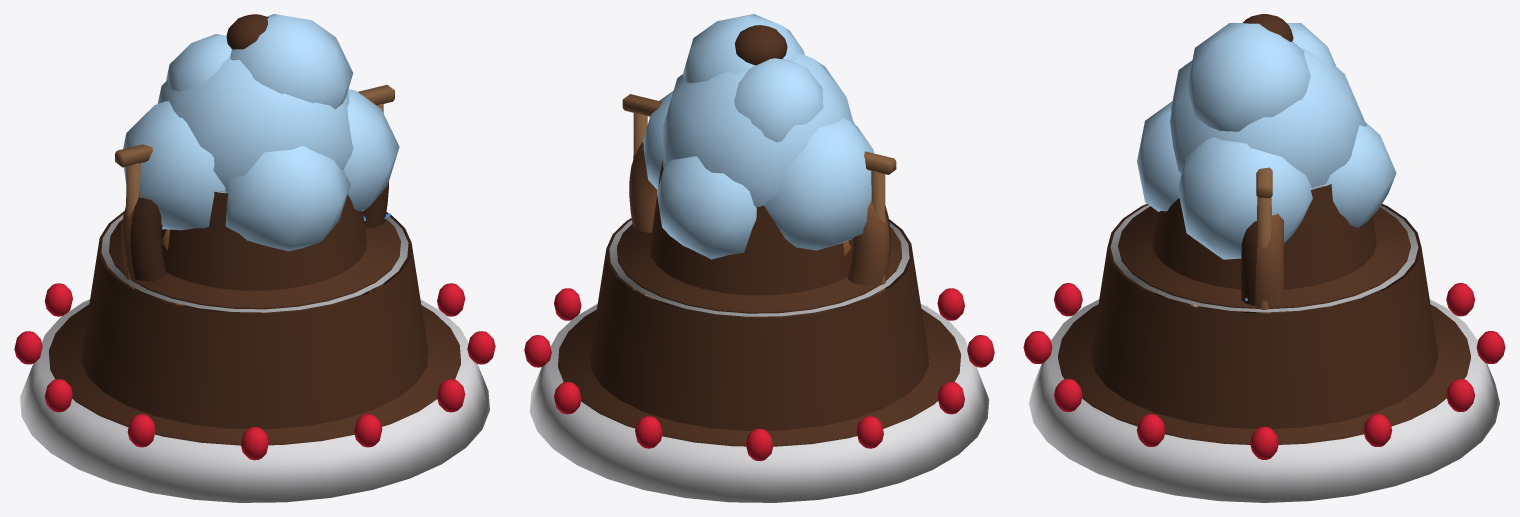
The model's file is choco.glb.
3 views of the same model, side by side, from view 1: azimuth 30°, elevation 25°; view 2: azimuth 150°, elevation 25°; view 3: azimuth 270°, elevation 25° (orthographic). The views are drawn at different scales.
Visible parts, largest first — view 1: CH_Fountain, CH_TreeBlue, CH_Brezn, CH_Heart; view 2: CH_Fountain, CH_TreeBlue, CH_Brezn, CH_Heart; view 3: CH_Fountain, CH_TreeBlue, CH_Brezn, CH_Heart.
Part boxes in pixels (<box>): CH_Fountain: <box>14,14,495,502</box>; CH_TreeBlue: <box>123,14,399,251</box>; CH_Brezn: <box>121,182,390,304</box>; CH_Heart: <box>115,85,394,292</box>; CH_Fountain: <box>524,25,994,502</box>; CH_TreeBlue: <box>643,14,874,259</box>; CH_Brezn: <box>629,142,890,308</box>; CH_Heart: <box>622,94,896,297</box>; CH_Fountain: <box>1023,14,1505,502</box>; CH_TreeBlue: <box>1137,23,1396,259</box>; CH_Brezn: <box>1241,214,1283,313</box>; CH_Heart: <box>1256,167,1272,313</box>.
Bounding box in the file's own units: 5.3 × 4.81 × 5.32.
